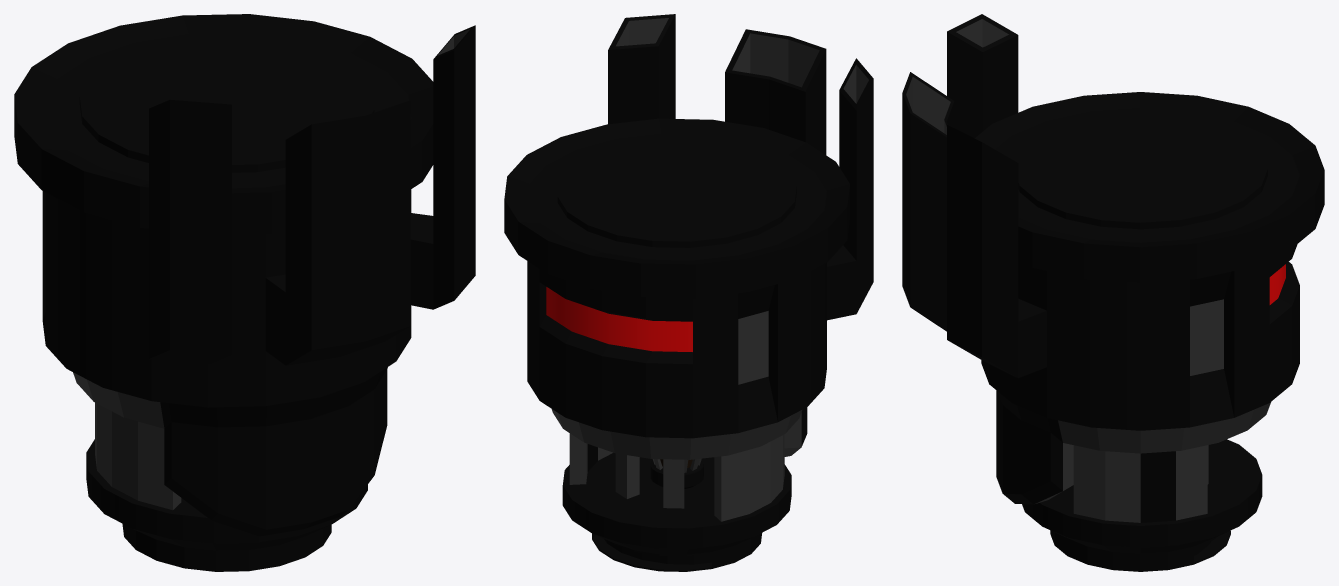
The model's file is BiggerRobotTorso.obj.
3 renders of one model, left to right at view 1: azimuth 30°, elevation 25°; view 2: azimuth 150°, elevation 25°; view 3: azimuth 270°, elevation 25°, orthographic. The views are drawn at different scales.
Visible parts, largest first — view 1: polySurface5; view 2: polySurface5; view 3: polySurface5.
Part boxes in pixels (x1,y1,x2,y2): polySurface5: (14, 14, 475, 571); polySurface5: (504, 14, 873, 571); polySurface5: (902, 14, 1324, 571).
Size of the model in its own units: 7.91 by 10.85 by 9.08.
